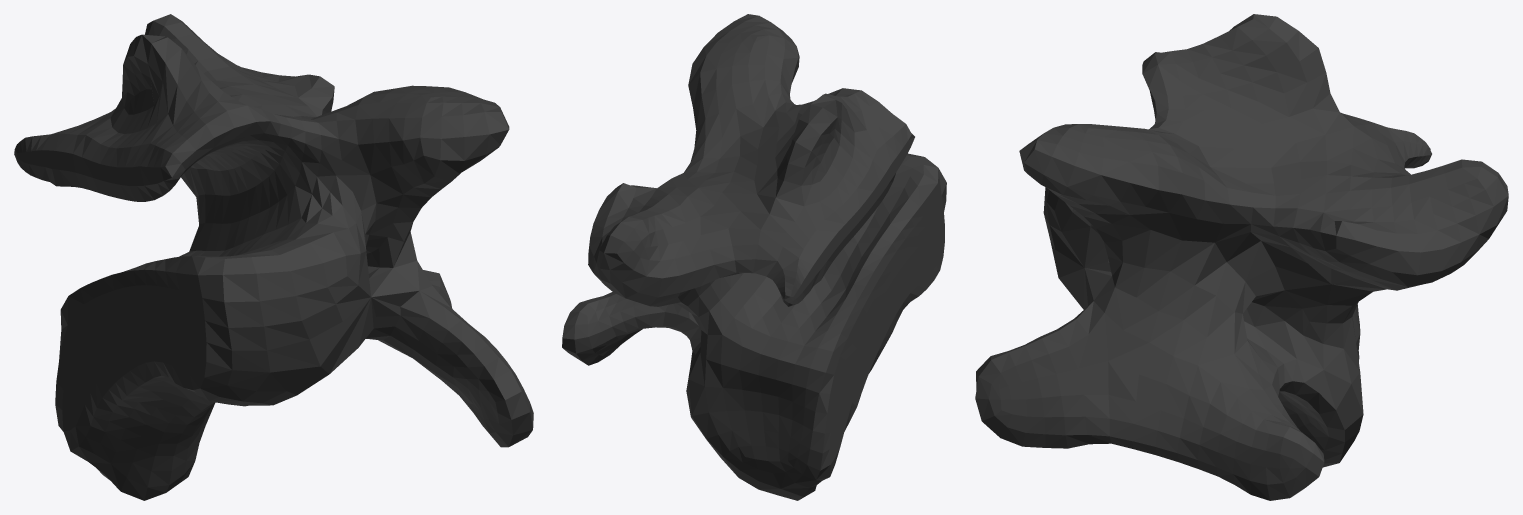
The picture shows the model from 3 angles, left to right: view 1: azimuth 30°, elevation 25°; view 2: azimuth 150°, elevation 25°; view 3: azimuth 270°, elevation 25°; orthographic projection. The views are drawn at different scales.
Visible parts, largest first — view 1: C4; view 2: C4; view 3: C4.
Part boxes in pixels (left/top/right/bottom): C4: left=14, top=14, right=533, bottom=500; C4: left=562, top=14, right=946, bottom=500; C4: left=975, top=14, right=1508, bottom=500.
Bounding box in the file's own units: 0.00822 × 0.0108 × 0.0119.
1 material, 1 textured.
